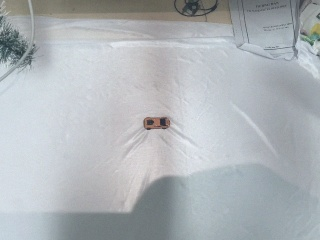toy_car: (142, 116, 172, 132)
